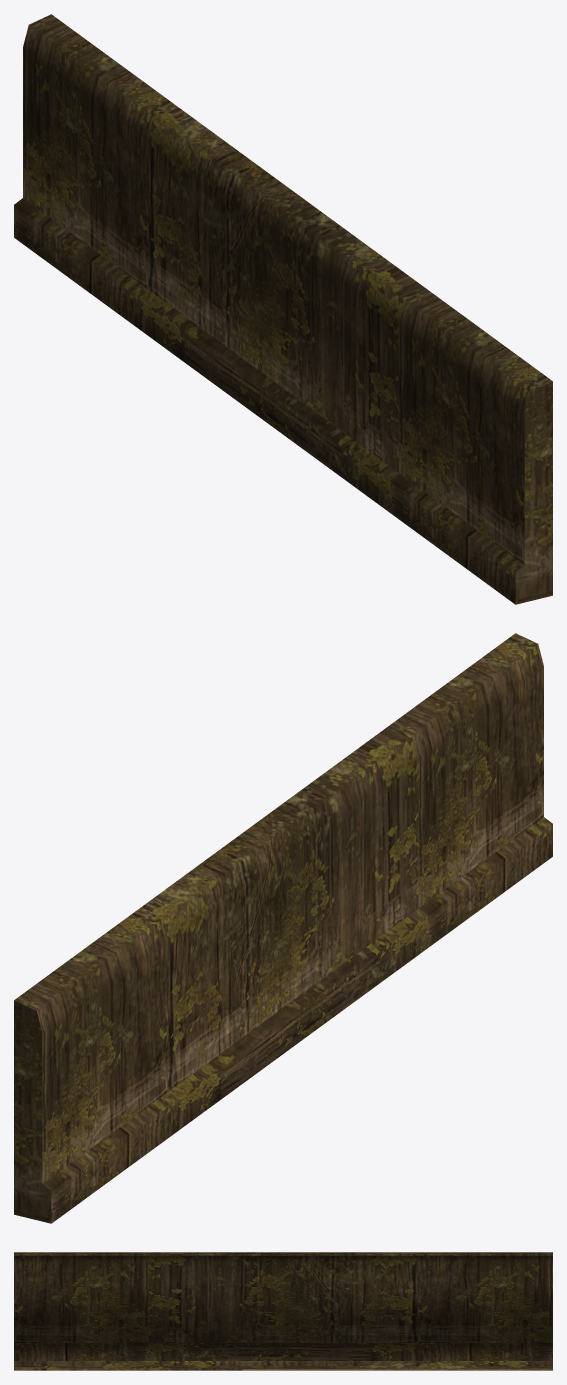
File: Plinth_02.fbx
3 views of the same model, one above another, from view 1: azimuth 30°, elevation 25°; view 2: azimuth 150°, elevation 25°; view 3: azimuth 270°, elevation 25° (orthographic). The views are drawn at different scales.
Parts seen in each view (by area): view 1: Plinth_02; view 2: Plinth_02; view 3: Plinth_02.
Boxes of the visible parts, x1,y1,x2,y2 form: Plinth_02: (14, 14, 552, 604); Plinth_02: (14, 633, 552, 1223); Plinth_02: (14, 1252, 552, 1370).
Size of the model in its own units: 0.2585 by 1.41 by 6.
